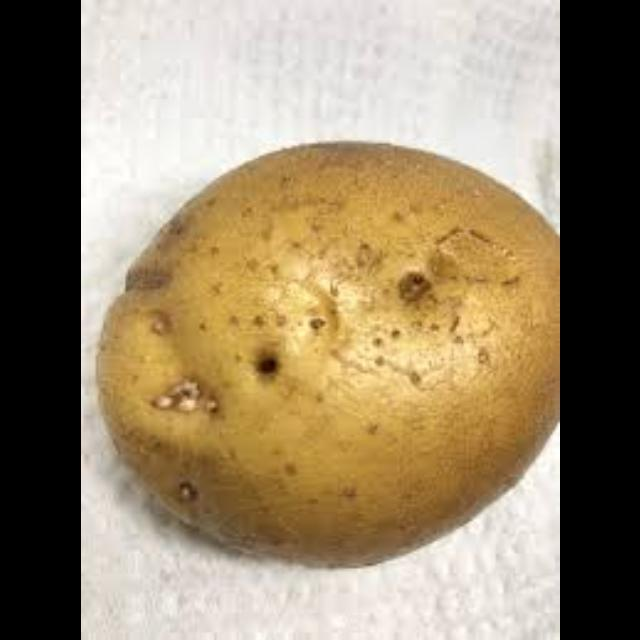Diseased-fungal potato: (88, 130, 558, 578)
